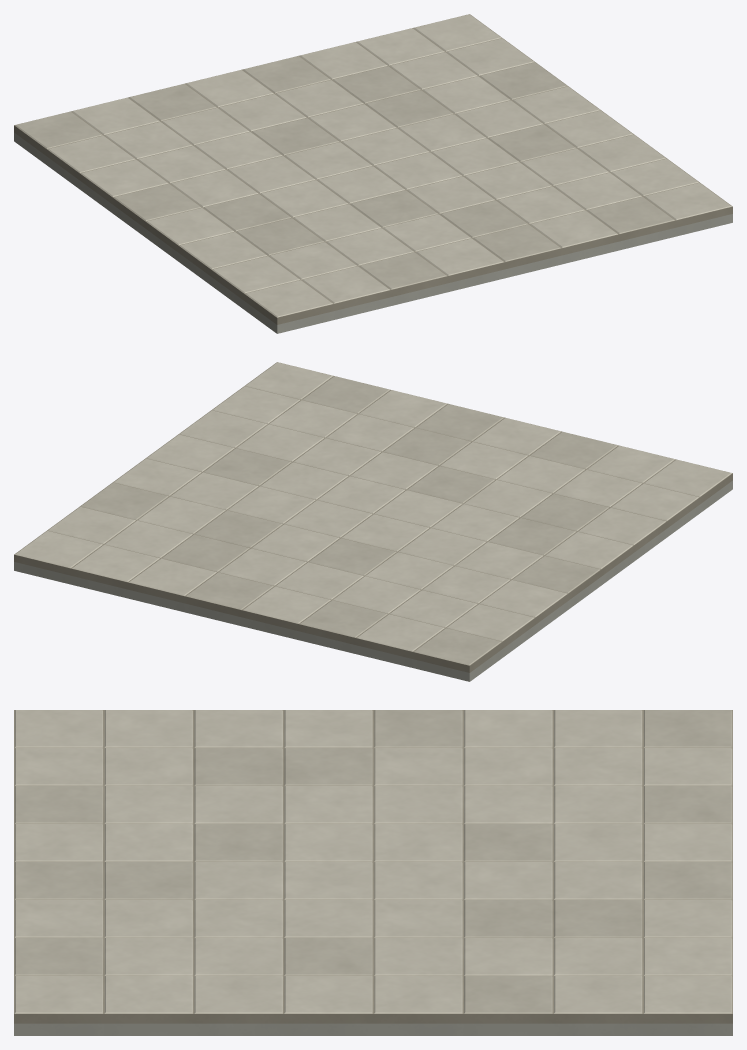
3 views of the same model, one above another, from view 1: azimuth 30°, elevation 25°; view 2: azimuth 150°, elevation 25°; view 3: azimuth 270°, elevation 25° (orthographic). The views are drawn at different scales.
Parts seen in each view (by area): view 1: VIS_Public_Square_4x4_LOD0_Limestone_Cloud, VIS_Public_Square_4x4_LOD0_Limestone_Sand, VIS_Public_Square_4x4_LOD0_Limestone_Edge, VIS_Public_Square_4x4_LOD0_Concrete_Curb; view 2: VIS_Public_Square_4x4_LOD0_Limestone_Cloud, VIS_Public_Square_4x4_LOD0_Limestone_Sand, VIS_Public_Square_4x4_LOD0_Limestone_Edge, VIS_Public_Square_4x4_LOD0_Concrete_Curb; view 3: VIS_Public_Square_4x4_LOD0_Limestone_Cloud, VIS_Public_Square_4x4_LOD0_Limestone_Sand, VIS_Public_Square_4x4_LOD0_Limestone_Edge, VIS_Public_Square_4x4_LOD0_Concrete_Curb.
Boxes of the visible parts, left/top/right/bottom form: VIS_Public_Square_4x4_LOD0_Limestone_Cloud: left=48, top=14, right=731, bottom=317; VIS_Public_Square_4x4_LOD0_Limestone_Sand: left=15, top=56, right=674, bottom=289; VIS_Public_Square_4x4_LOD0_Limestone_Edge: left=14, top=14, right=732, bottom=324; VIS_Public_Square_4x4_LOD0_Concrete_Curb: left=14, top=132, right=732, bottom=333; VIS_Public_Square_4x4_LOD0_Limestone_Cloud: left=15, top=362, right=731, bottom=651; VIS_Public_Square_4x4_LOD0_Limestone_Sand: left=81, top=376, right=617, bottom=665; VIS_Public_Square_4x4_LOD0_Limestone_Edge: left=14, top=362, right=732, bottom=672; VIS_Public_Square_4x4_LOD0_Concrete_Curb: left=14, top=480, right=732, bottom=681; VIS_Public_Square_4x4_LOD0_Limestone_Cloud: left=14, top=710, right=732, bottom=1013; VIS_Public_Square_4x4_LOD0_Limestone_Sand: left=14, top=710, right=732, bottom=1013; VIS_Public_Square_4x4_LOD0_Limestone_Edge: left=14, top=710, right=732, bottom=1023; VIS_Public_Square_4x4_LOD0_Concrete_Curb: left=14, top=1023, right=732, bottom=1035.
Size of the model in its own units: 4 by 0.14 by 4.
4 materials, 4 textured.
